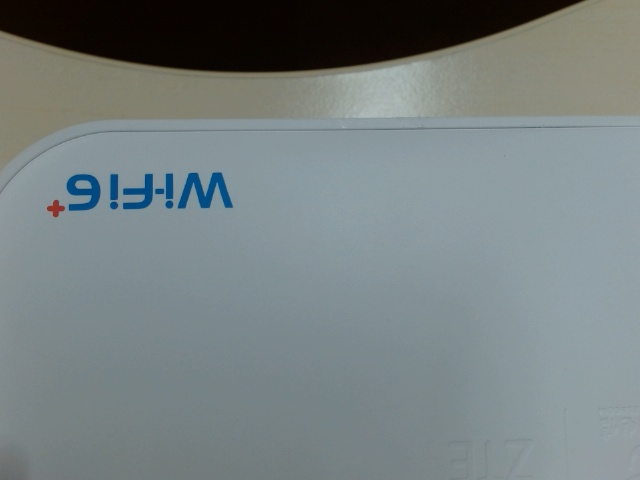AJ_ZTEWIFI6Plus: (28, 162, 248, 222)
